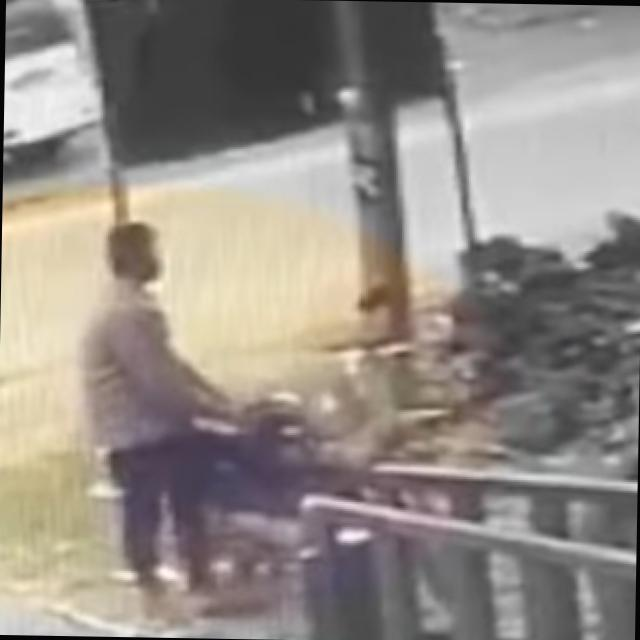person: (74, 218, 236, 608)
